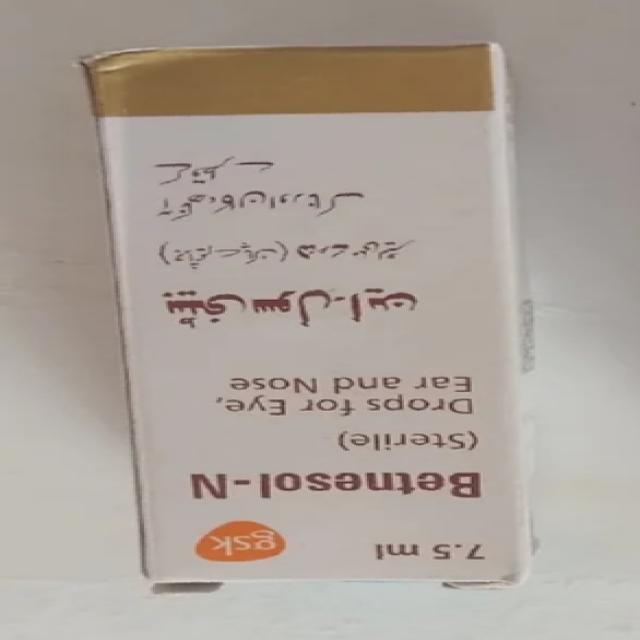drug-name: (181, 462, 490, 508)
